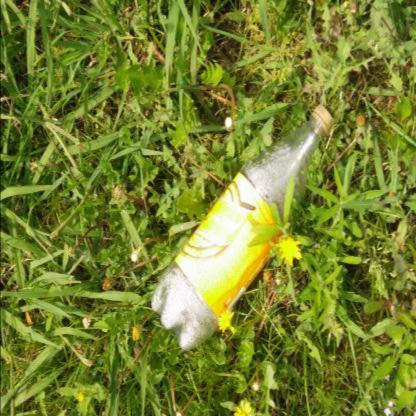Bottle: (314, 104, 333, 131)
Bottle cap: (151, 104, 333, 352)
